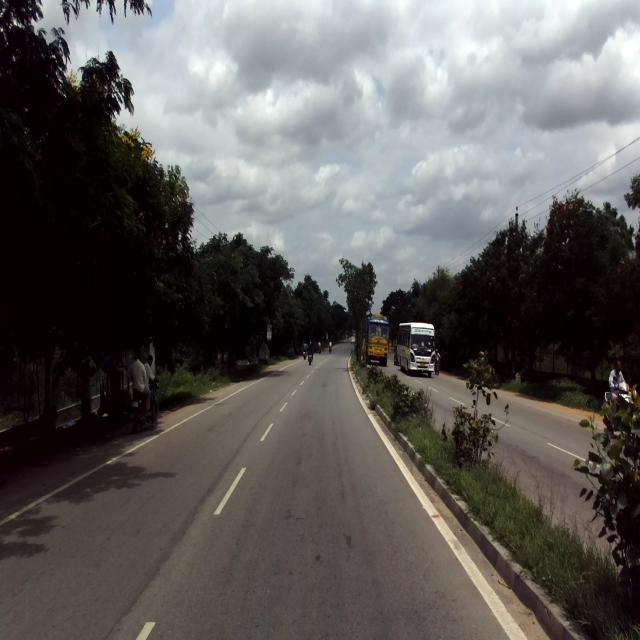bus: (396, 319, 434, 375)
motorcycle: (602, 375, 635, 434)
truck: (367, 312, 389, 364)
